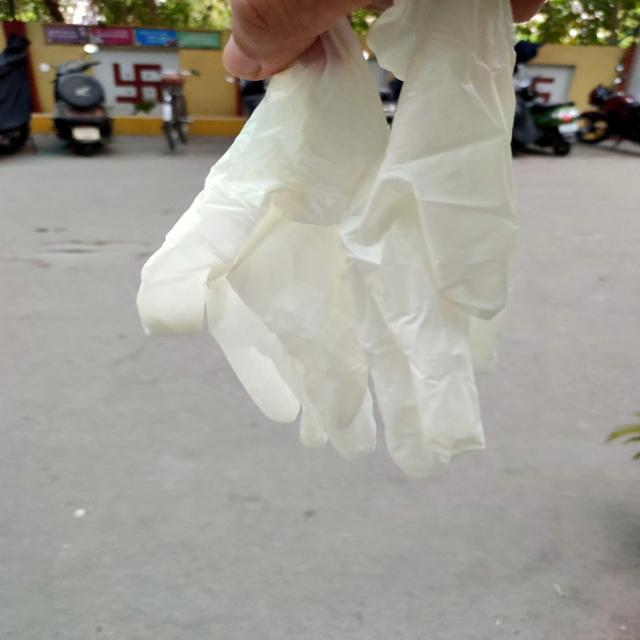B3: (137, 0, 617, 475)
